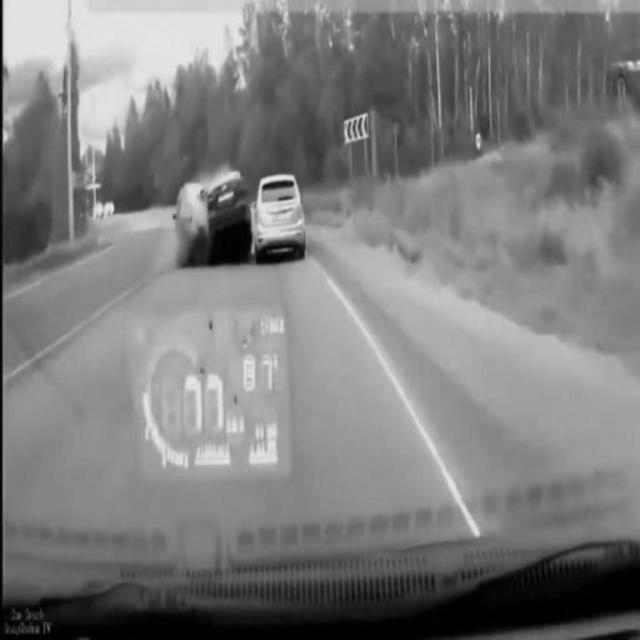accident: (167, 168, 311, 270)
